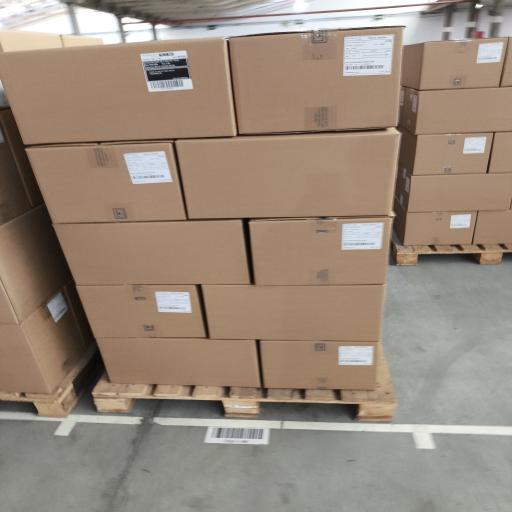pallet: (93, 345, 395, 421), (0, 343, 103, 417), (392, 232, 511, 265)
